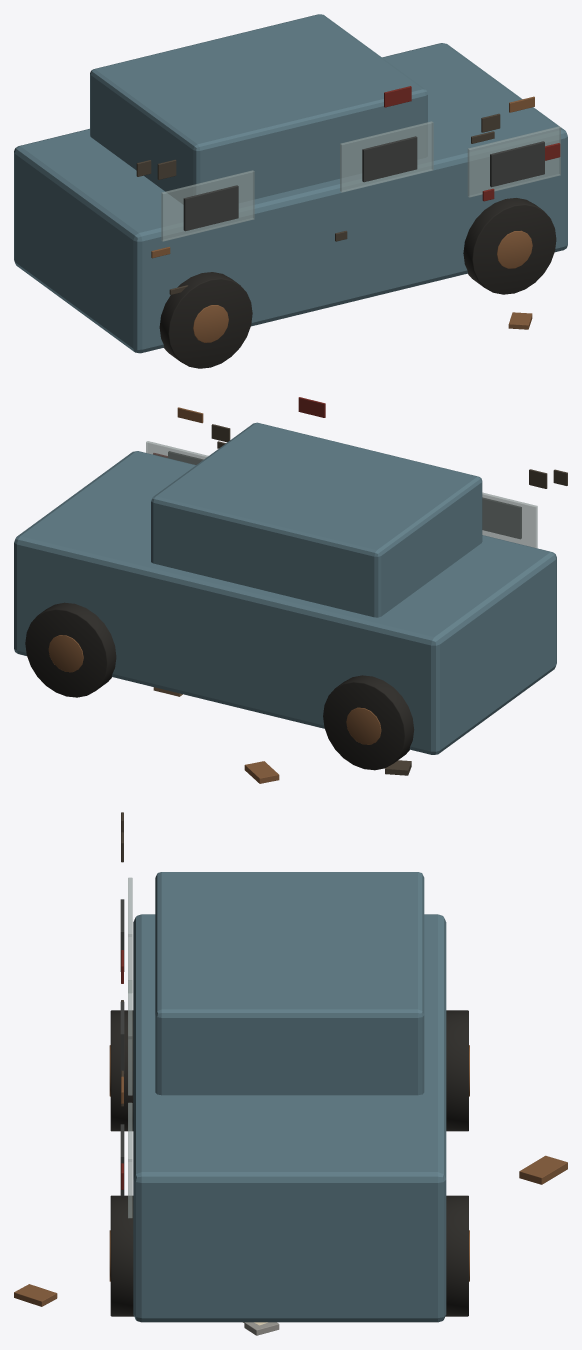
File: dz_vehicle_compact_hatchback_premium.glb
3 views of the same model, one above another, from view 1: azimuth 30°, elevation 25°; view 2: azimuth 150°, elevation 25°; view 3: azimuth 270°, elevation 25° (orthographic). The views are drawn at different scales.
Parts seen in each view (by area): view 1: vehicle_lower_body_dented, vehicle_cabin_crushed, flat_muddy_tire_1.19_-0.884, flat_muddy_tire_-1.19_-0.884, broken_window_-1.15, broken_window_0.25, broken_window_1.25, window_hole_shadow_-1.15, window_hole_shadow_0.25, window_hole_shadow_1.25, rusted_wheel_hub_-1.19_-0.884, rusted_wheel_hub_1.19_-0.884 (+1 smaller); view 2: vehicle_lower_body_dented, vehicle_cabin_crushed, flat_muddy_tire_1.19_0.884, flat_muddy_tire_-1.19_0.884, broken_window_-1.15, window_hole_shadow_-1.15, rusted_wheel_hub_-1.19_0.884, rusted_wheel_hub_1.19_0.884, broken_window_1.25, vehicle_debris_01; view 3: vehicle_lower_body_dented, vehicle_cabin_crushed, flat_muddy_tire_1.19_-0.884, flat_muddy_tire_1.19_0.884, flat_muddy_tire_-1.19_0.884, flat_muddy_tire_-1.19_-0.884, vehicle_debris_01, vehicle_debris_00.
Boxes of the visible parts, x1,y1,x2,y2 form: vehicle_lower_body_dented: [14, 43, 567, 353]; vehicle_cabin_crushed: [90, 14, 427, 204]; flat_muddy_tire_1.19_-0.884: [463, 198, 556, 294]; flat_muddy_tire_-1.19_-0.884: [159, 272, 252, 368]; broken_window_-1.15: [161, 170, 254, 241]; broken_window_0.25: [340, 121, 433, 192]; broken_window_1.25: [467, 126, 560, 197]; window_hole_shadow_-1.15: [183, 185, 238, 231]; window_hole_shadow_0.25: [362, 136, 417, 182]; window_hole_shadow_1.25: [490, 141, 544, 187]; rusted_wheel_hub_-1.19_-0.884: [193, 305, 228, 342]; rusted_wheel_hub_1.19_-0.884: [497, 230, 532, 268]; vehicle_lower_body_dented: [14, 451, 556, 754]; vehicle_cabin_crushed: [151, 422, 482, 617]; flat_muddy_tire_1.19_0.884: [25, 602, 116, 697]; flat_muddy_tire_-1.19_0.884: [323, 675, 414, 770]; broken_window_-1.15: [482, 492, 537, 547]; window_hole_shadow_-1.15: [482, 498, 521, 538]; rusted_wheel_hub_-1.19_0.884: [346, 707, 381, 744]; rusted_wheel_hub_1.19_0.884: [48, 635, 83, 672]; broken_window_1.25: [146, 441, 208, 464]; vehicle_debris_01: [244, 761, 279, 783]; vehicle_lower_body_dented: [133, 914, 446, 1322]; vehicle_cabin_crushed: [155, 872, 424, 1095]; flat_muddy_tire_1.19_-0.884: [110, 1195, 133, 1316]; flat_muddy_tire_1.19_0.884: [445, 1195, 468, 1316]; flat_muddy_tire_-1.19_0.884: [446, 1010, 468, 1131]; flat_muddy_tire_-1.19_-0.884: [110, 1010, 133, 1131]; vehicle_debris_01: [519, 1155, 567, 1184]; vehicle_debris_00: [14, 1284, 57, 1306].
Size of the model in its own units: 3.43 by 1.72 by 3.01.
